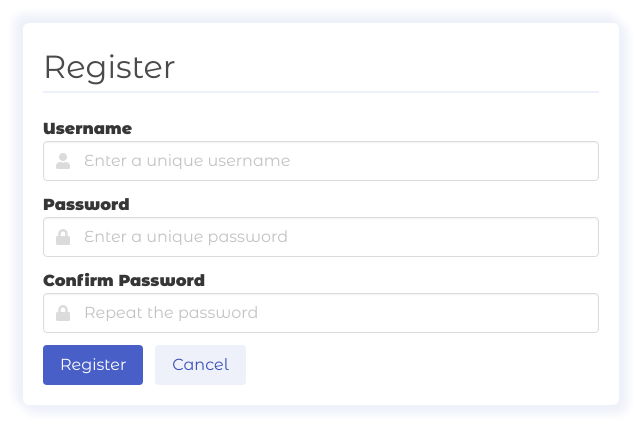
Scenario: <Register /> › Goes to login page when Cancel button is pressed
Step 1. Click the button with test id "CancelRegister" → click(200, 365), box [155,345,246,385]
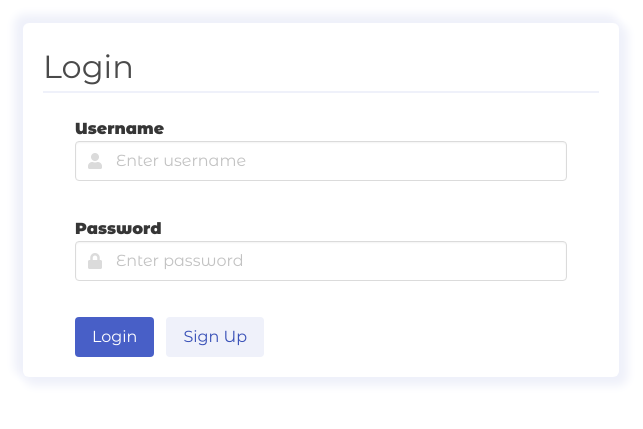
Expected: the element with test id "Login" is shown
